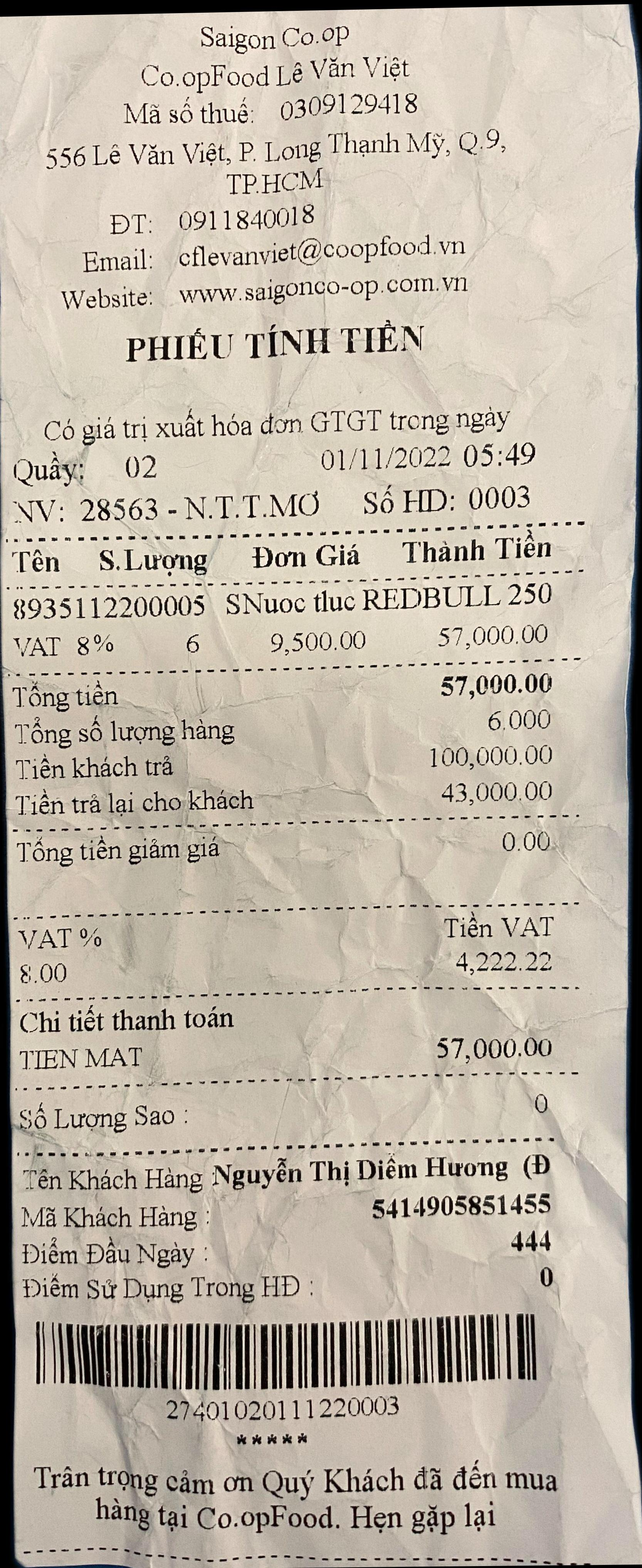Date: (274, 440, 458, 479)
Store_Name: (162, 12, 384, 59)
Total_Amount: (6, 667, 579, 714)
